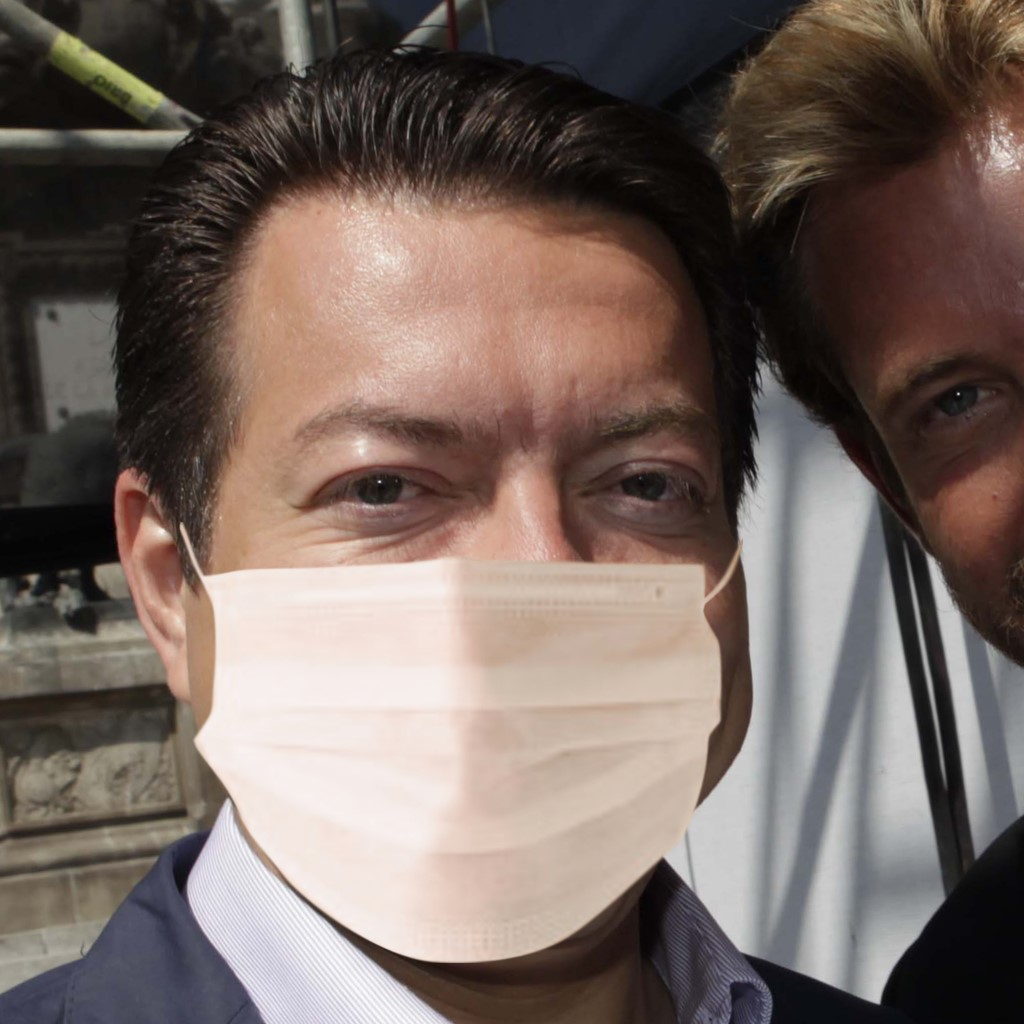con_mascara: (148, 157, 756, 939)
